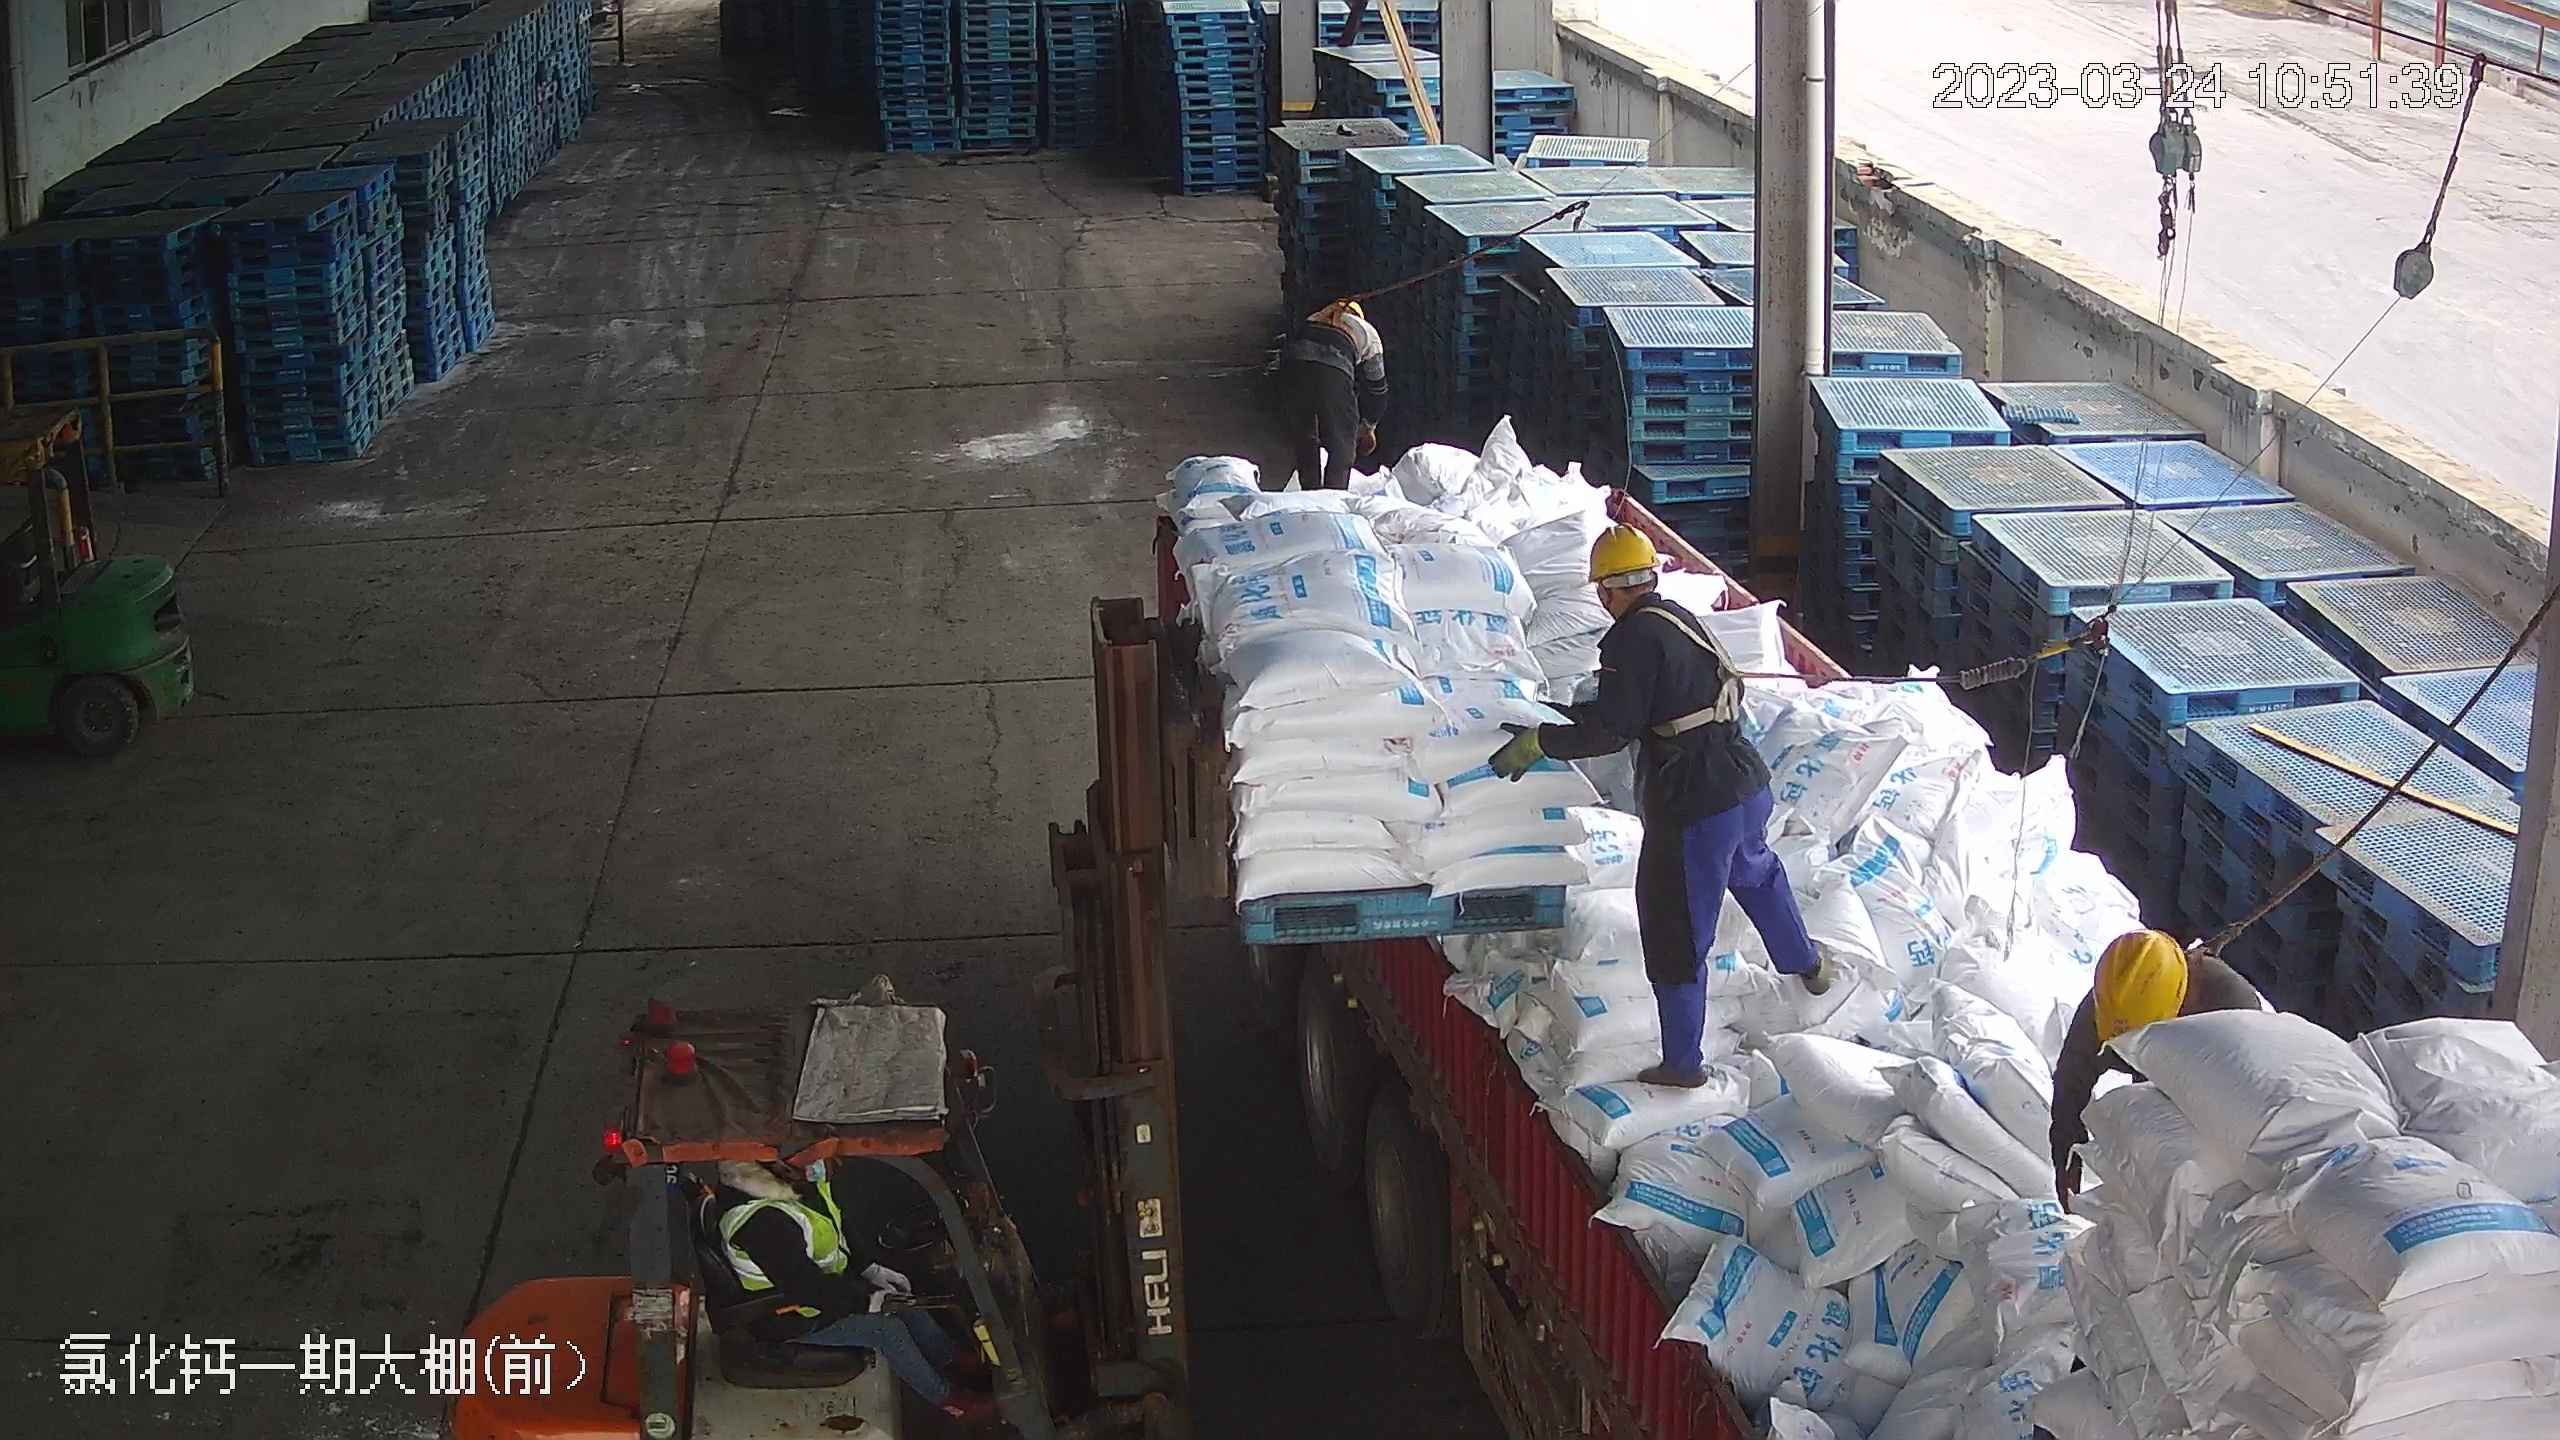belt: (1639, 598, 1763, 741), (2170, 922, 2256, 1010), (1312, 283, 1372, 344)
head: (1576, 524, 1728, 683), (1289, 292, 1373, 362)
helmet: (2091, 927, 2188, 1032), (1580, 524, 1661, 584)
people: (1494, 528, 1835, 1089), (710, 1149, 993, 1421), (1267, 288, 1384, 488)
truck: (1160, 421, 2516, 1437)
